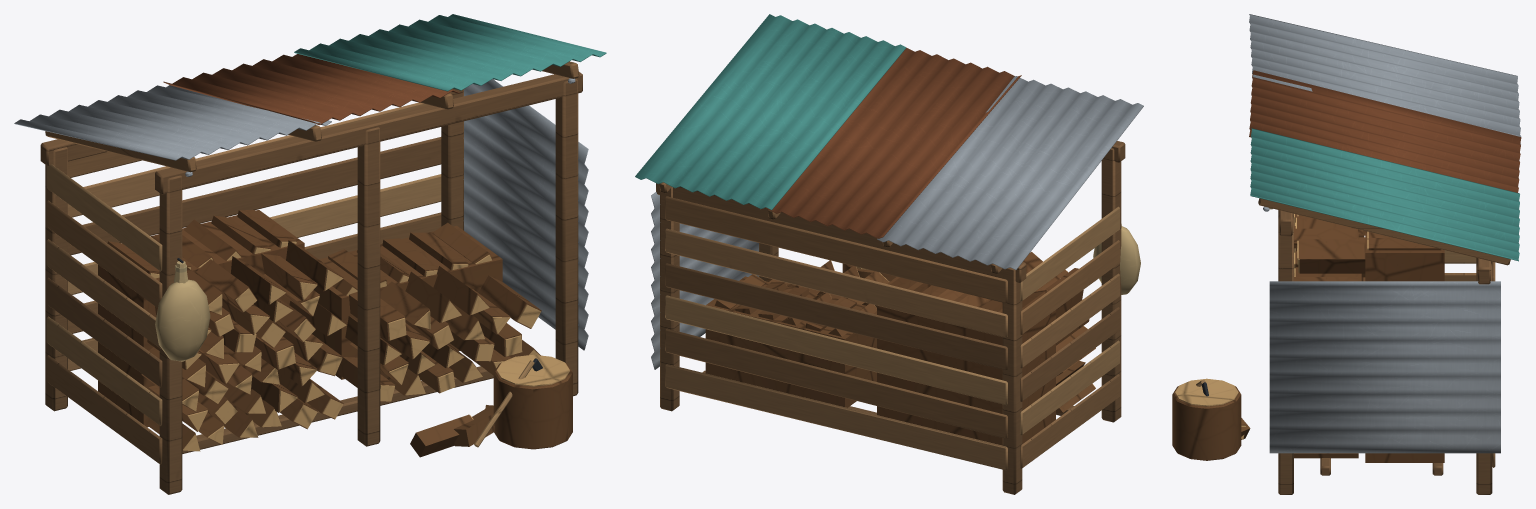
Rendered from woodshed.glb.
3 views of the same model, side by side, from view 1: azimuth 30°, elevation 25°; view 2: azimuth 150°, elevation 25°; view 3: azimuth 270°, elevation 25° (orthographic). The views are drawn at different scales.
Parts seen in each view (by area): view 1: woodshed.001; view 2: woodshed.001; view 3: woodshed.001.
Boxes of the visible parts, x1,y1,x2,y2 form: woodshed.001: (14,14,606,494); woodshed.001: (635,14,1143,494); woodshed.001: (1172,14,1521,494).
Size of the model in its own units: 3.33 by 2.57 by 2.64.
Materials: 19 (19 with a texture image).
